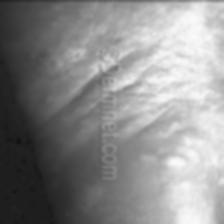Non-Cancerous Skin Condition: (124, 118, 212, 192), (127, 46, 196, 108), (33, 36, 96, 92)
